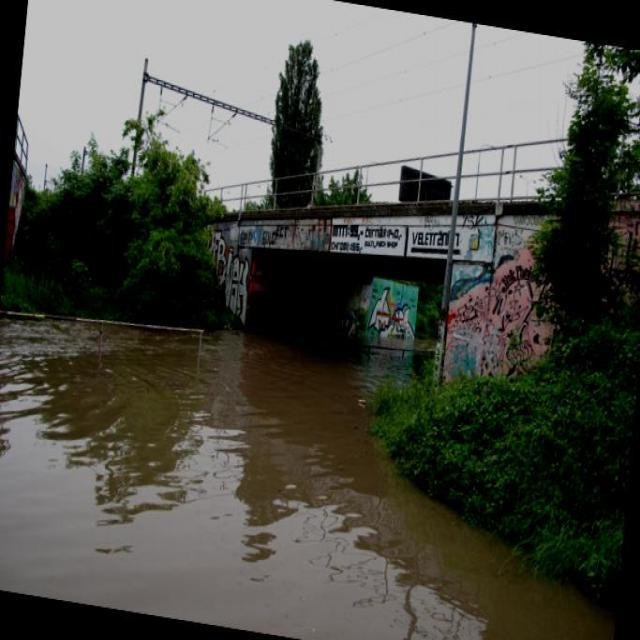flood: (0, 274, 638, 639)
